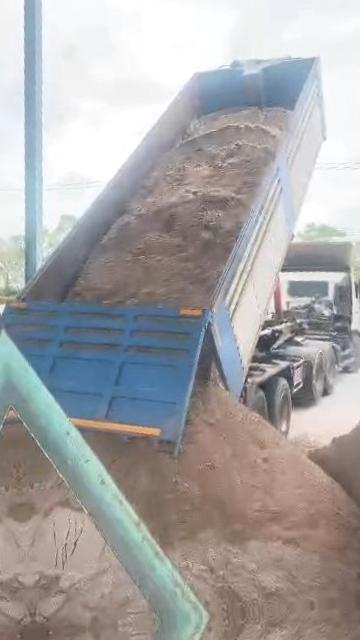sand: (88, 352, 360, 614), (68, 108, 288, 306), (14, 430, 149, 632), (310, 411, 360, 531)
